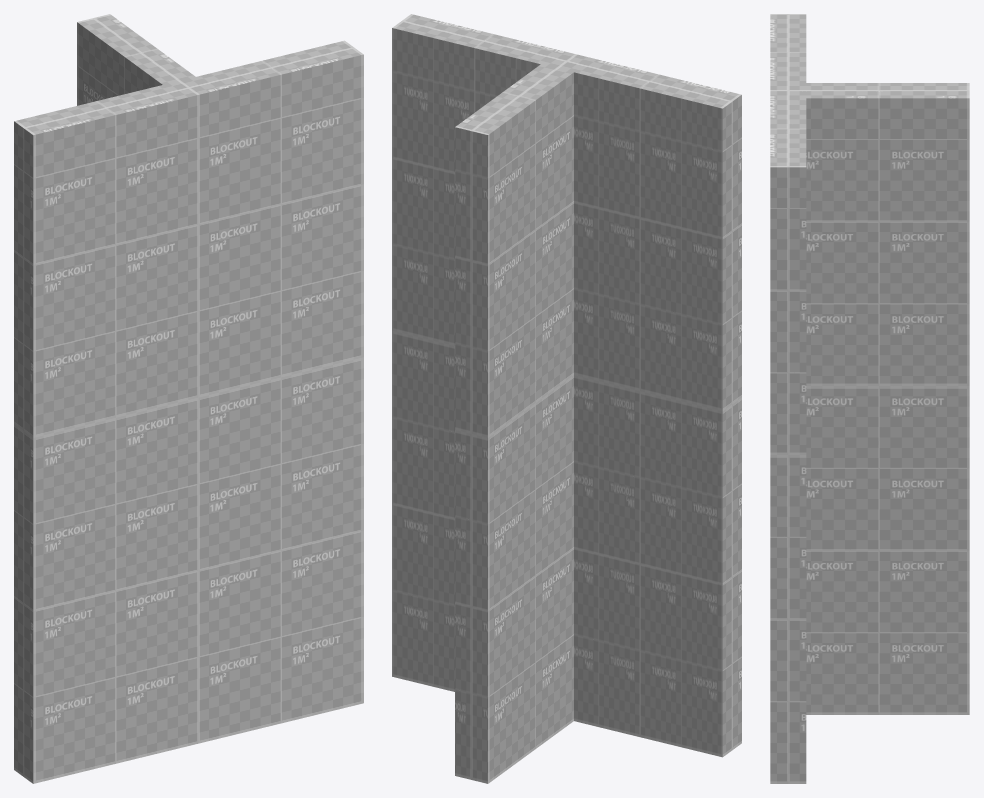
The model's file is BlockoutThinJunctionThreeWay.fbx.
The picture shows the model from 3 angles, left to right: view 1: azimuth 30°, elevation 25°; view 2: azimuth 150°, elevation 25°; view 3: azimuth 270°, elevation 25°; orthographic projection. The views are drawn at different scales.
Parts seen in each view (by area): view 1: BlockoutThinJunctionThreeWay; view 2: BlockoutThinJunctionThreeWay; view 3: BlockoutThinJunctionThreeWay.
Boxes of the visible parts, x1,y1,x2,y2 form: BlockoutThinJunctionThreeWay: [14, 14, 363, 783]; BlockoutThinJunctionThreeWay: [392, 14, 741, 783]; BlockoutThinJunctionThreeWay: [770, 14, 969, 783].
Bounding box in the file's own units: 400 × 750 × 220.
